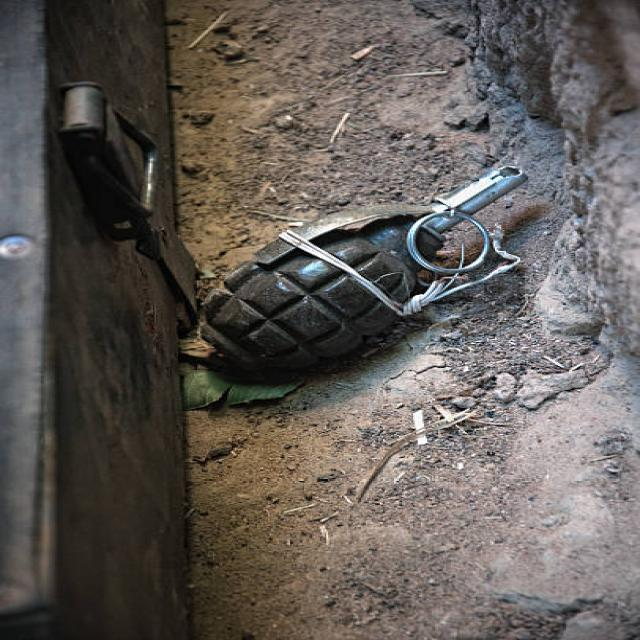grenade: (196, 164, 544, 396)
